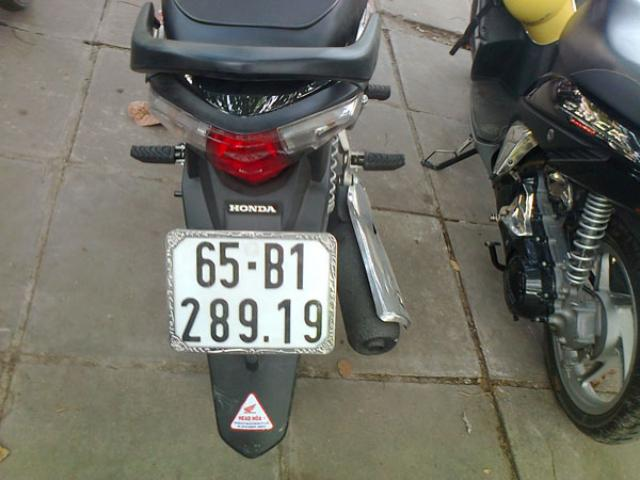plate: (172, 230, 332, 351)
